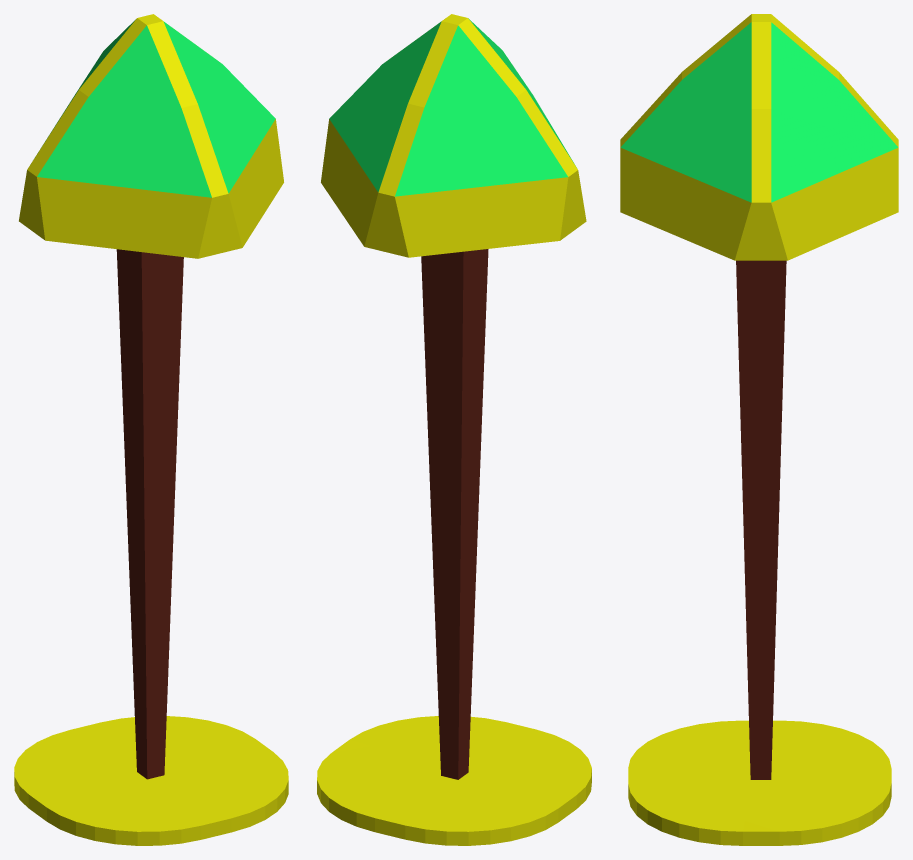
The model's file is lamptall.fbx.
3 renders of one model, left to right at view 1: azimuth 30°, elevation 25°; view 2: azimuth 150°, elevation 25°; view 3: azimuth 270°, elevation 25°, orthographic.
Parts seen in each view (by area): view 1: Cube; view 2: Cube; view 3: Cube.
Part boxes in pixels (x1,y1,x2,y2): Cube: [14, 14, 288, 845]; Cube: [317, 14, 591, 845]; Cube: [620, 14, 898, 845].
Bounding box in the file's own units: 720 × 2211 × 722.
